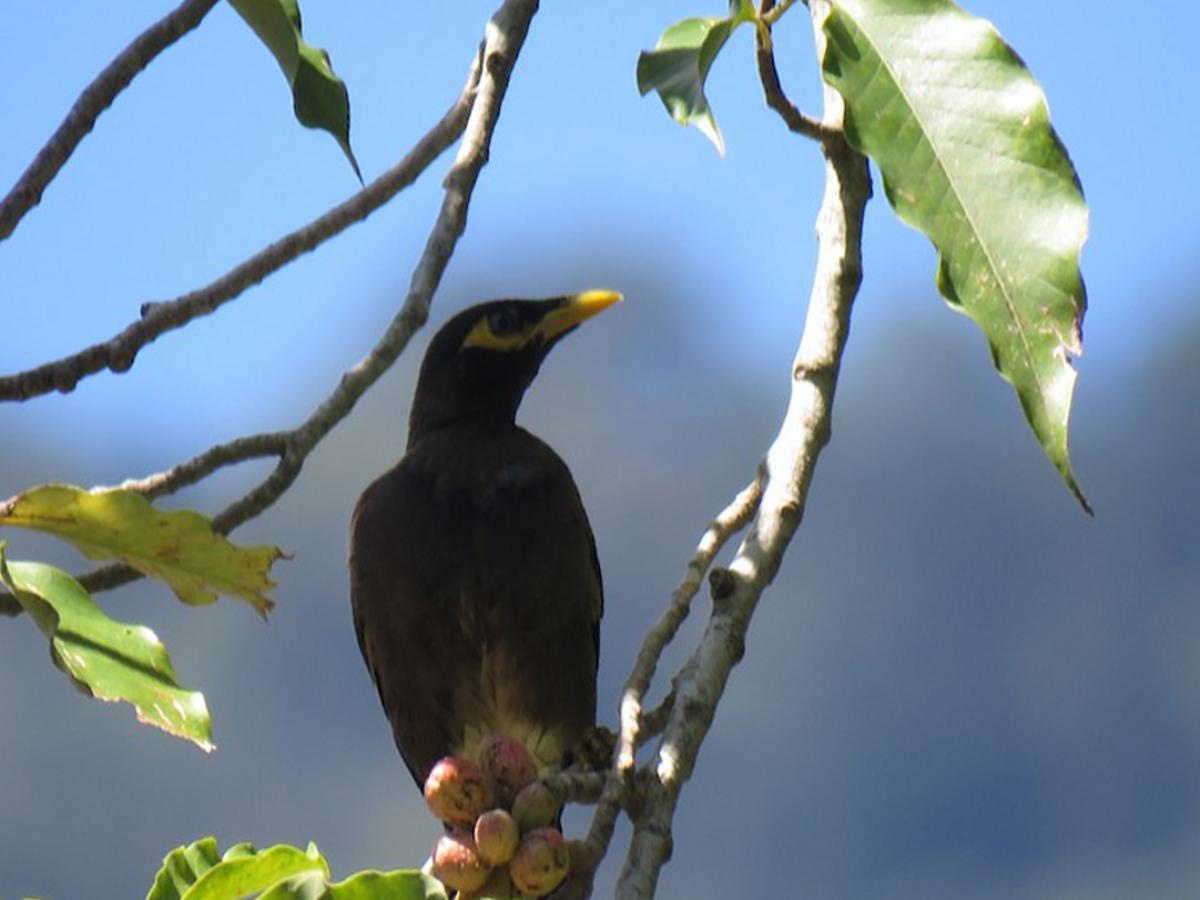myna: (338, 228, 673, 857)
